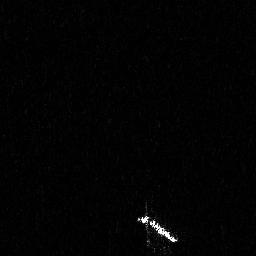ship: (137, 201, 182, 255)
